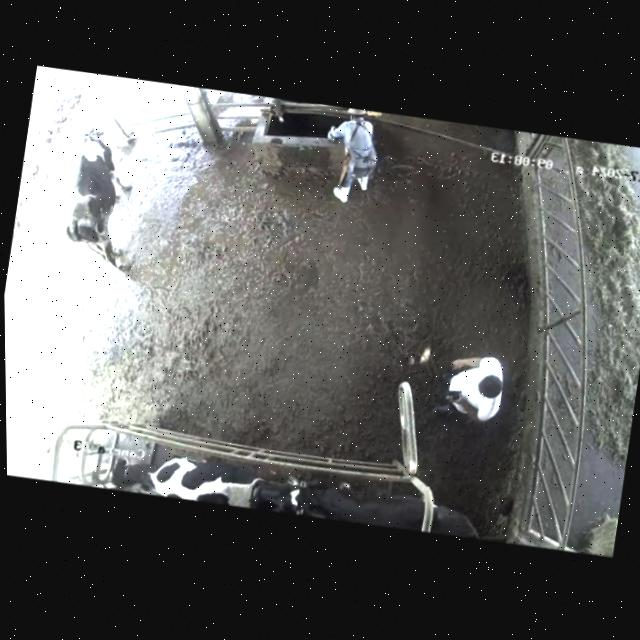stand: (242, 466, 489, 565), (44, 108, 158, 286), (94, 436, 259, 525)
